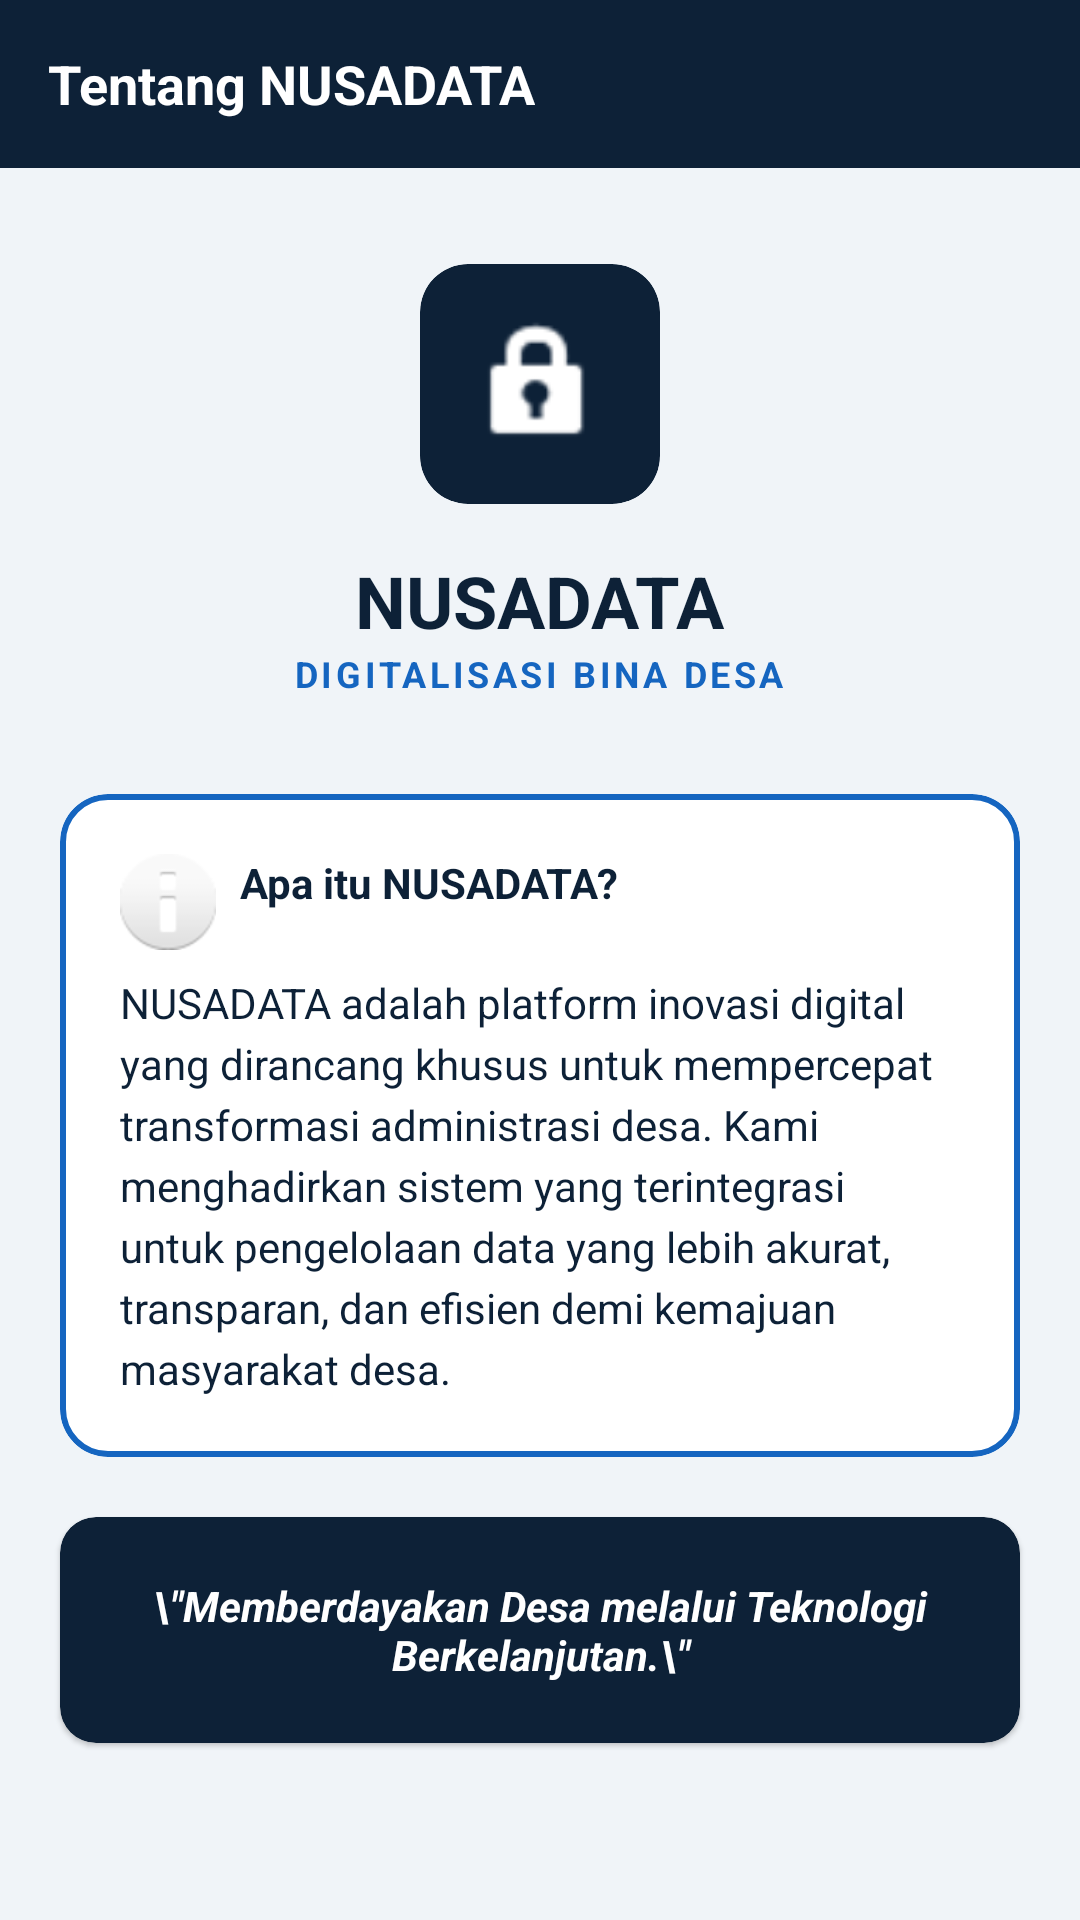

Icon bounding boxes for this 1080 × 1920 phone screenshot, format rect(x1, y1, x2, y2):
lock idle: rect(420, 264, 660, 504)
